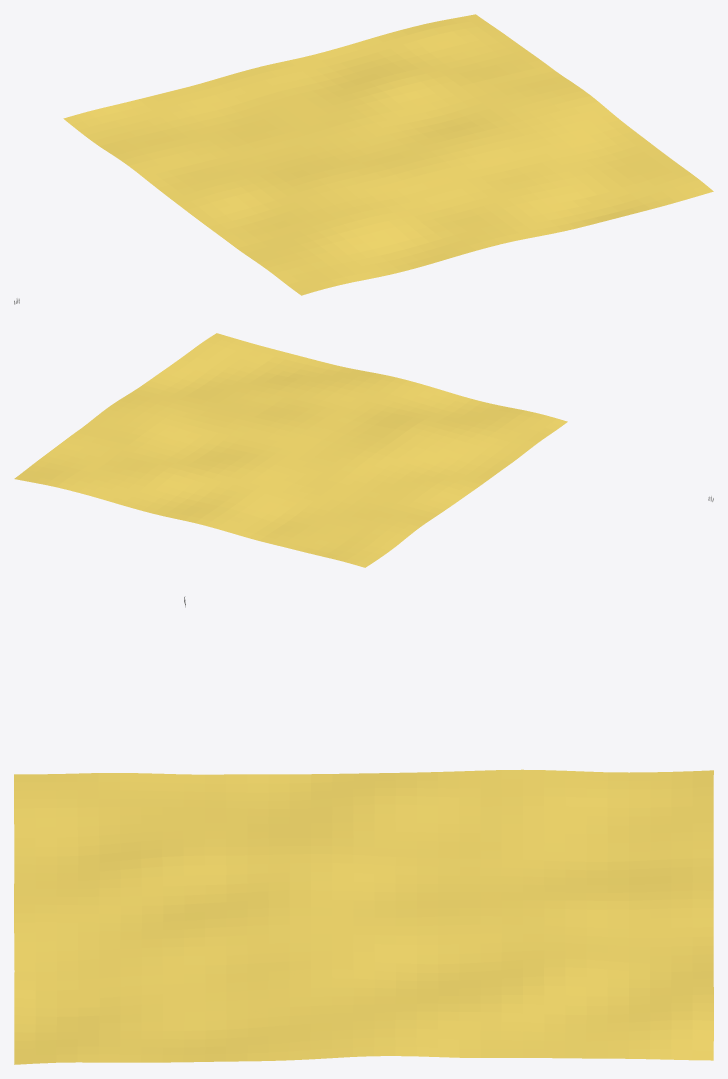
The model's file is Grass.fbx.
3 views of the same model, one above another, from view 1: azimuth 30°, elevation 25°; view 2: azimuth 150°, elevation 25°; view 3: azimuth 270°, elevation 25° (orthographic). The views are drawn at different scales.
Parts seen in each view (by area): view 1: Plane.001; view 2: Plane.001; view 3: Plane.001.
Part boxes in pixels (bbox=[...]): Plane.001: bbox=[63, 14, 713, 295]; Plane.001: bbox=[14, 333, 567, 567]; Plane.001: bbox=[14, 769, 713, 1064].
Size of the model in its own units: 19373 by 343 by 12458.
